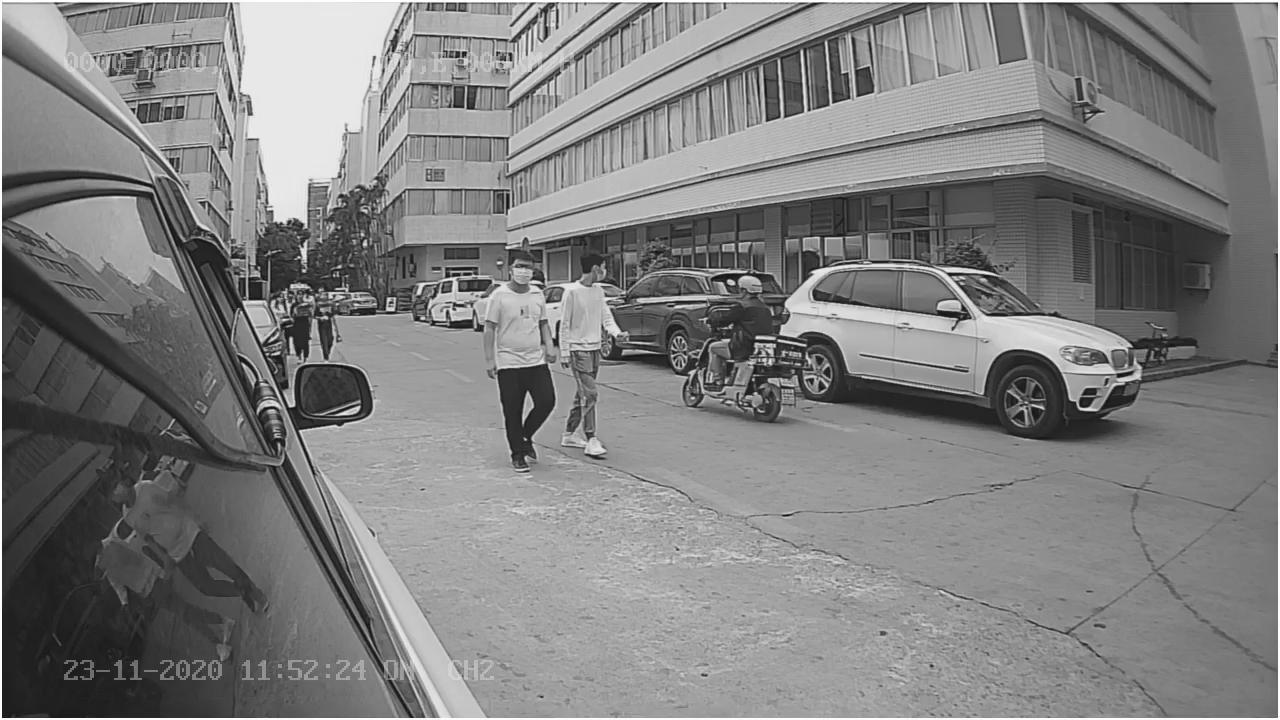person: (487, 248, 554, 469), (560, 249, 625, 454)
